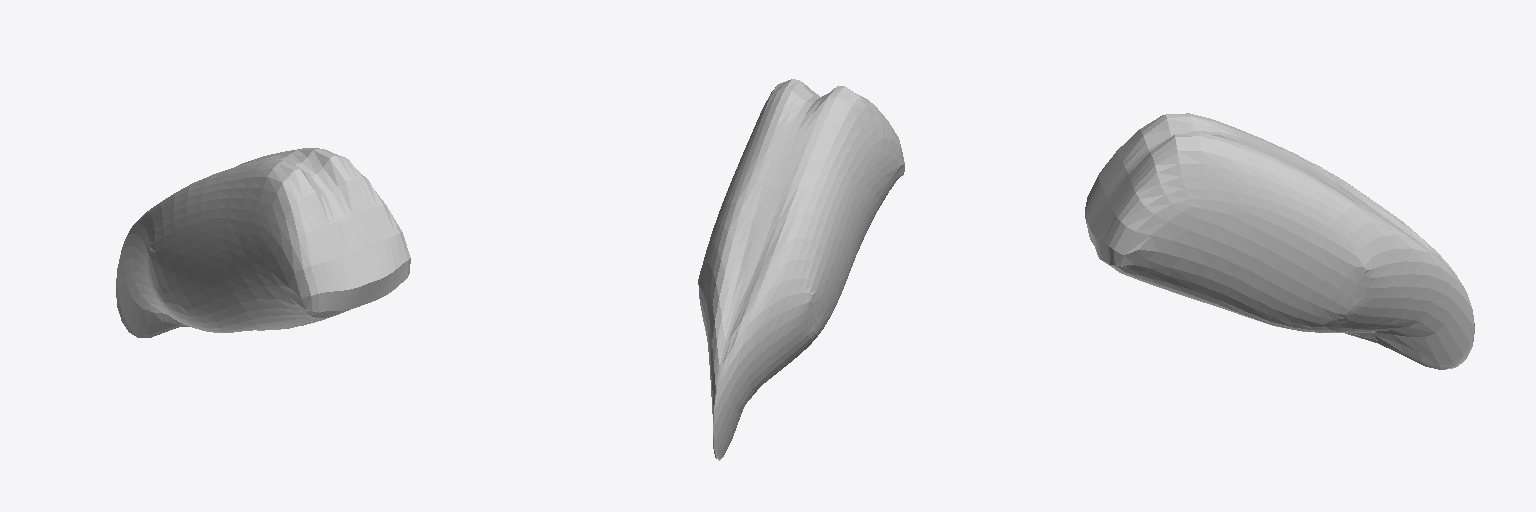
Rendered from rearlsmalltoe5.obj.
The picture shows the model from 3 angles: view 1: azimuth 30°, elevation 25°; view 2: azimuth 150°, elevation 25°; view 3: azimuth 270°, elevation 25°; orthographic projection.
Parts seen in each view (by area): view 1: Cube.157_Cube.159; view 2: Cube.157_Cube.159; view 3: Cube.157_Cube.159.
Boxes of the visible parts, x1=… form: Cube.157_Cube.159: x1=116, y1=148, x2=410, y2=337; Cube.157_Cube.159: x1=698, y1=79, x2=904, y2=460; Cube.157_Cube.159: x1=1085, y1=113, x2=1474, y2=369.
Bounding box in the file's own units: 0.0273 × 0.0459 × 0.0614.